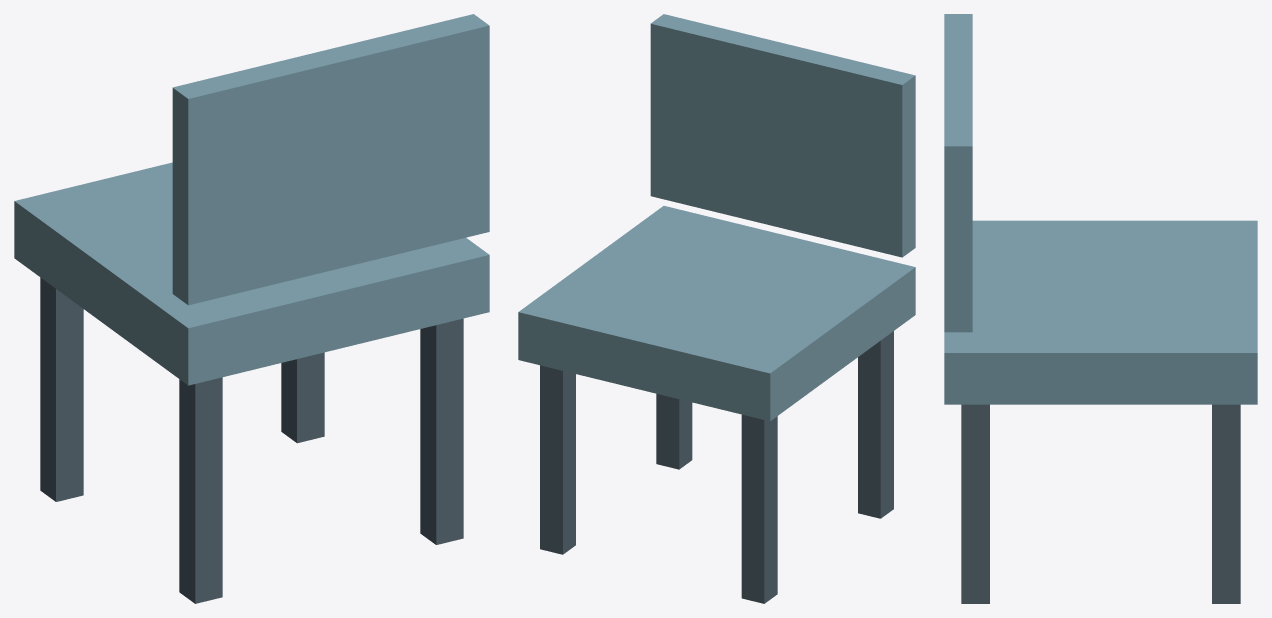
Rendered from chair.glb.
3 views of the same model, side by side, from view 1: azimuth 30°, elevation 25°; view 2: azimuth 150°, elevation 25°; view 3: azimuth 270°, elevation 25° (orthographic). The views are drawn at different scales.
Visible parts, largest first — view 1: Back, Seat, Leg2, Leg3, Leg0, Leg1; view 2: Seat, Back, Leg0, Leg1, Leg2, Leg3; view 3: Seat, Back, Leg1, Leg3.
Boxes of the visible parts, box(x1,y1,x2,y2) form: Back: box(172, 14, 489, 305); Seat: box(14, 162, 489, 385); Leg2: box(179, 377, 222, 603); Leg3: box(420, 318, 463, 544); Leg0: box(40, 277, 83, 501); Leg1: box(281, 352, 324, 443); Seat: box(518, 206, 915, 421); Back: box(650, 14, 915, 257); Leg0: box(741, 414, 777, 603); Leg1: box(540, 365, 575, 554); Leg2: box(858, 331, 893, 518); Leg3: box(656, 393, 692, 469); Seat: box(944, 220, 1257, 404); Back: box(944, 14, 972, 332); Leg1: box(1212, 404, 1240, 603); Leg3: box(961, 404, 989, 603).
Size of the model in its own units: 0.55 by 0.9 by 0.55.
